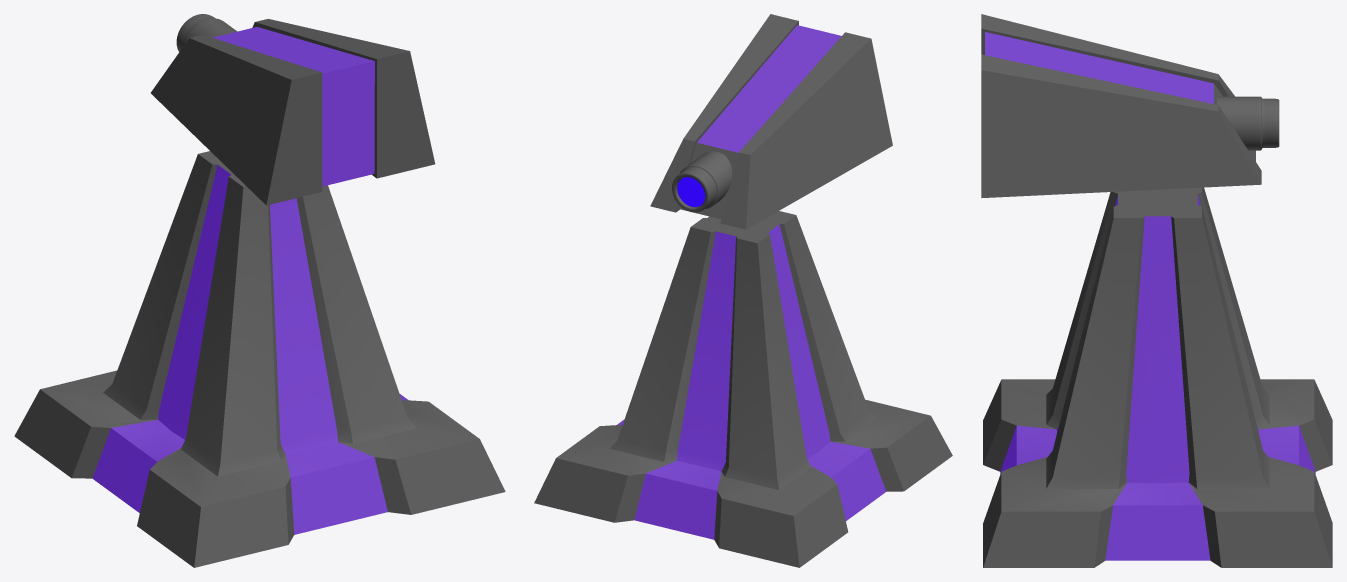
File: laser.glb
The picture shows the model from 3 angles, left to right: view 1: azimuth 30°, elevation 25°; view 2: azimuth 150°, elevation 25°; view 3: azimuth 270°, elevation 25°; orthographic projection. The views are drawn at different scales.
Parts seen in each view (by area): view 1: Base, Head.001, Laser Housing; view 2: Base, Head.001, Laser Housing; view 3: Base, Head.001, Laser Housing.
Boxes of the visible parts, bbox=[...] form: Base: bbox=[14, 151, 505, 567]; Head.001: bbox=[151, 19, 435, 205]; Laser Housing: bbox=[176, 14, 236, 51]; Base: bbox=[534, 211, 952, 567]; Head.001: bbox=[650, 14, 892, 229]; Laser Housing: bbox=[672, 151, 732, 212]; Base: bbox=[983, 187, 1332, 567]; Head.001: bbox=[981, 14, 1261, 198]; Laser Housing: bbox=[1217, 96, 1279, 150].
Bounding box in the file's own units: 0.8521 × 1.22 × 0.8567.
